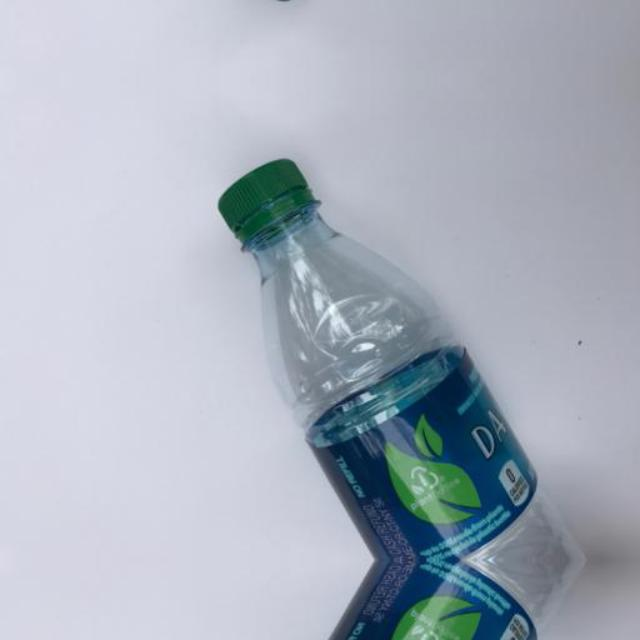Plastic: (158, 146, 582, 560), (157, 560, 582, 640), (157, 0, 582, 14)
